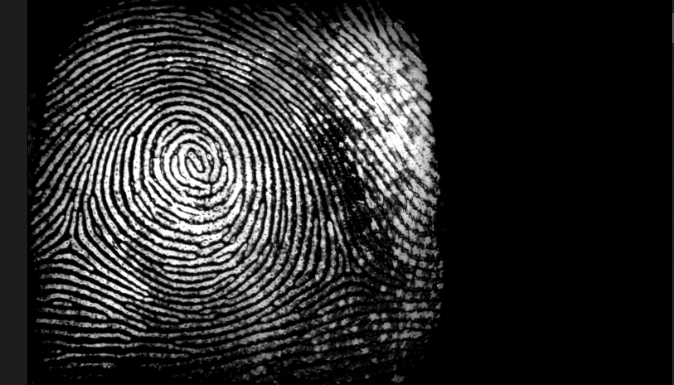deltas: (322, 242, 375, 294), (43, 214, 92, 267)
nucleo: (173, 138, 213, 183)
